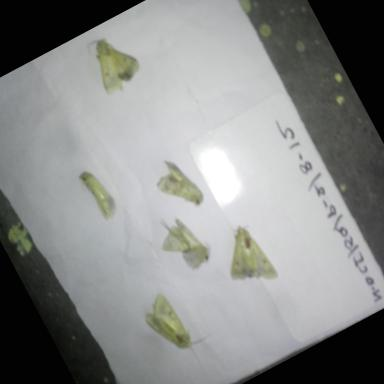abw: (131, 275, 230, 384), (207, 215, 285, 302), (75, 22, 153, 106), (144, 200, 219, 284), (144, 146, 213, 224), (70, 159, 131, 234)
